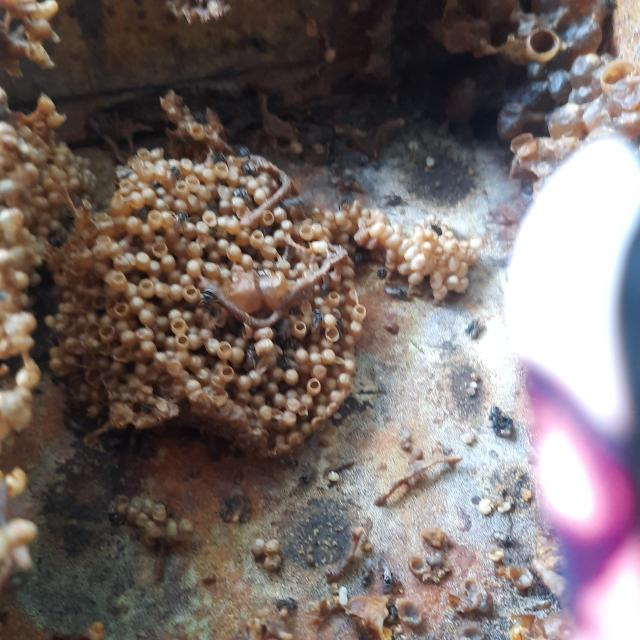honeybee: (356, 559, 376, 588), (304, 306, 323, 331), (381, 562, 398, 589), (106, 507, 130, 526), (241, 342, 259, 367), (464, 312, 481, 338), (290, 469, 311, 490), (379, 195, 405, 209), (198, 285, 216, 305), (423, 220, 445, 236), (489, 532, 514, 546), (284, 193, 307, 208), (274, 595, 298, 609), (332, 314, 346, 338), (233, 186, 255, 200), (500, 418, 516, 437), (239, 162, 258, 178), (385, 286, 406, 300), (48, 230, 66, 246), (376, 266, 392, 283), (235, 144, 254, 158), (386, 603, 398, 625), (320, 283, 333, 303), (117, 164, 131, 182), (65, 212, 79, 229), (338, 193, 352, 209), (282, 335, 296, 351), (170, 164, 184, 180), (351, 253, 368, 266), (426, 554, 444, 566), (279, 356, 295, 369), (174, 211, 190, 223), (151, 177, 163, 188)
